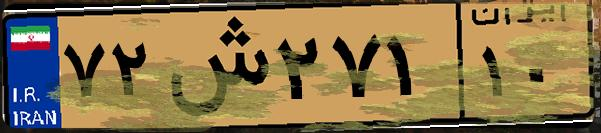0: (525, 38, 570, 115)
1: (385, 28, 445, 110), (475, 38, 525, 113)
2: (270, 28, 330, 110), (110, 28, 158, 98)
7: (330, 28, 385, 110), (57, 26, 110, 100)
ش: (158, 12, 270, 120)
